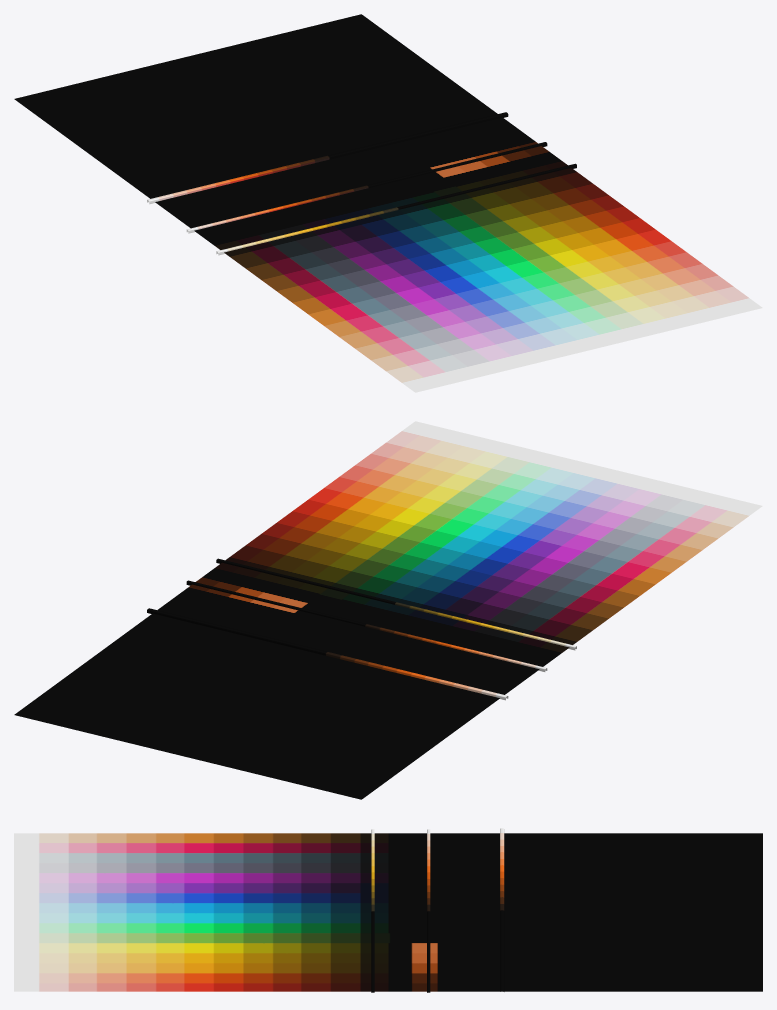
File: Model_Background.fbx
3 renders of one model, top to bottom at view 1: azimuth 30°, elevation 25°; view 2: azimuth 150°, elevation 25°; view 3: azimuth 270°, elevation 25°, orthographic. The views are drawn at different scales.
Parts seen in each view (by area): view 1: Model_Background; view 2: Model_Background; view 3: Model_Background.
Boxes of the visible parts, left/top/right/bottom form: Model_Background: left=14, top=14, right=762, bottom=392; Model_Background: left=14, top=421, right=762, bottom=799; Model_Background: left=14, top=828, right=762, bottom=992.
Size of the model in its own units: 2478 by 26.82 by 4800.
